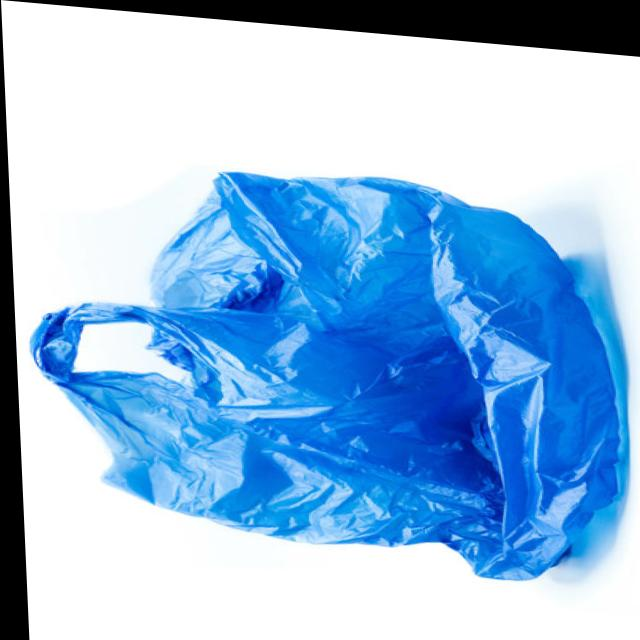Plastic: (12, 135, 640, 590)
